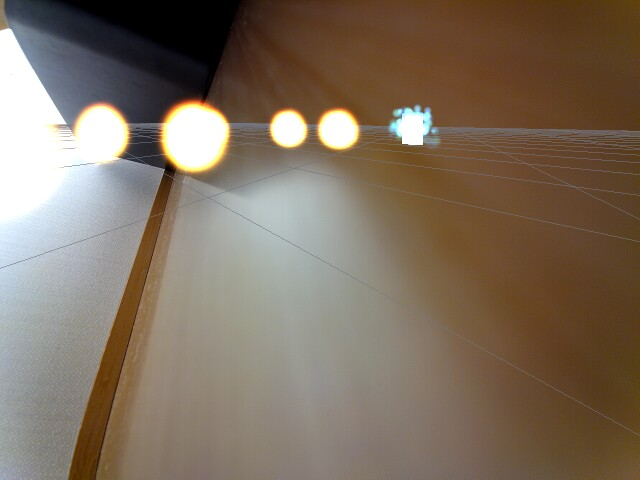firebig: (0, 53, 65, 230)
